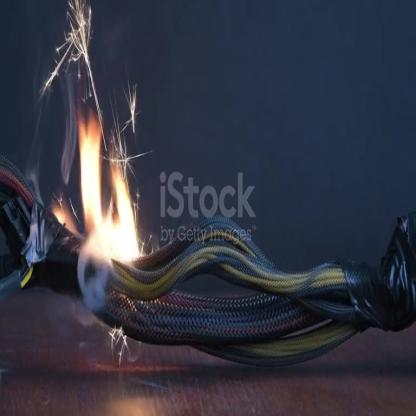fire: (76, 119, 148, 278)
smoke: (21, 57, 108, 314)
